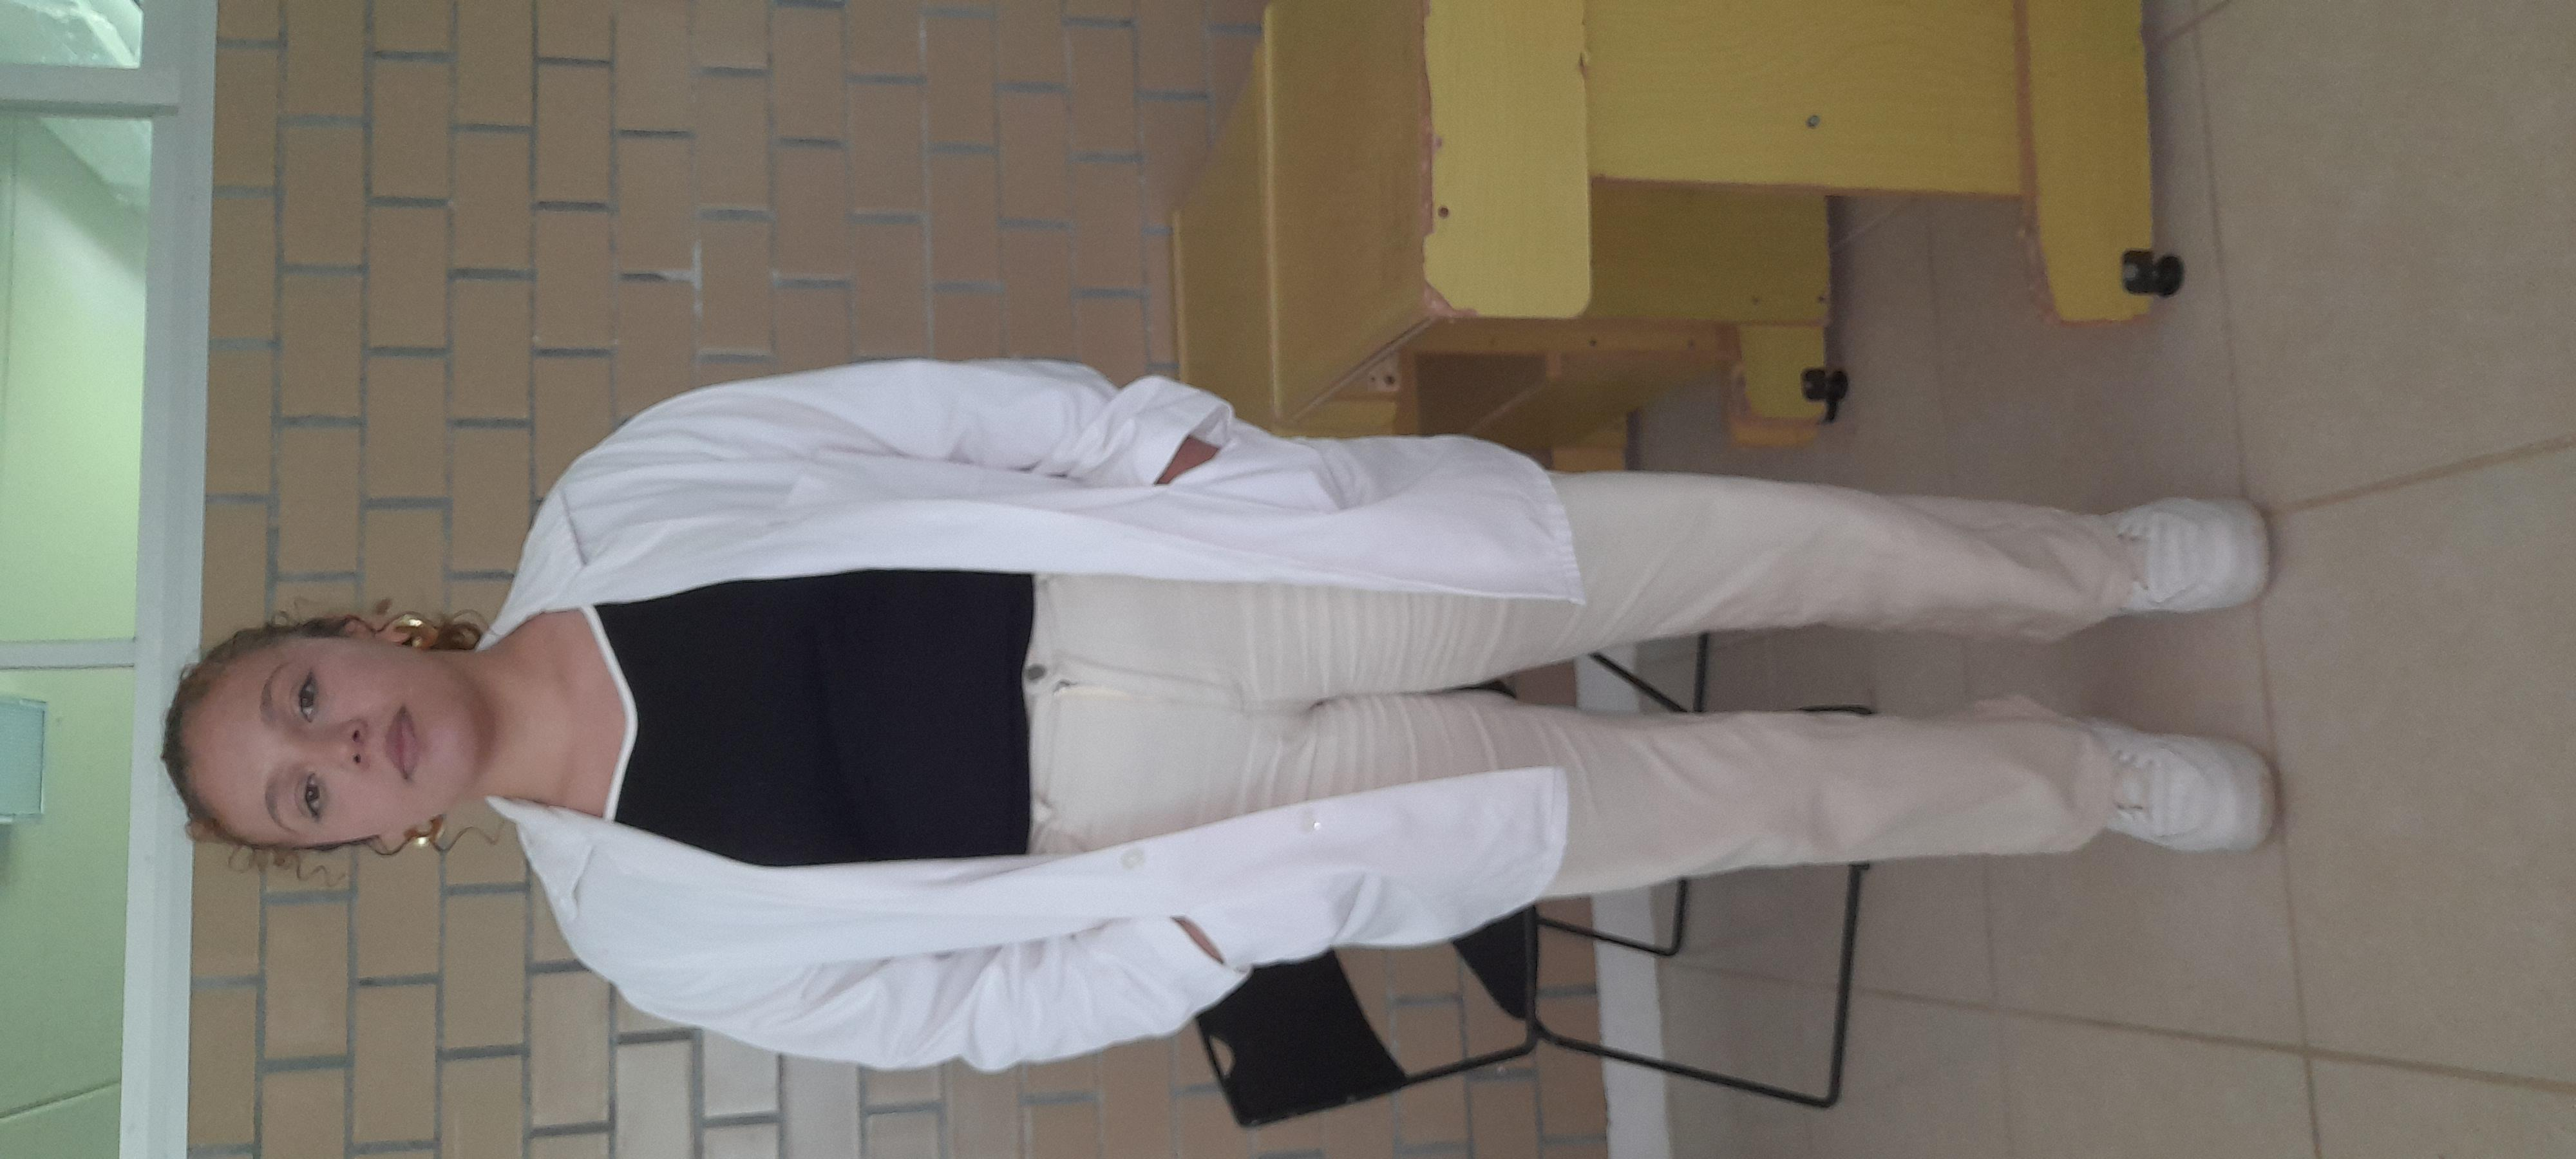Bata-Incorrecta: (158, 46, 1904, 1052)
